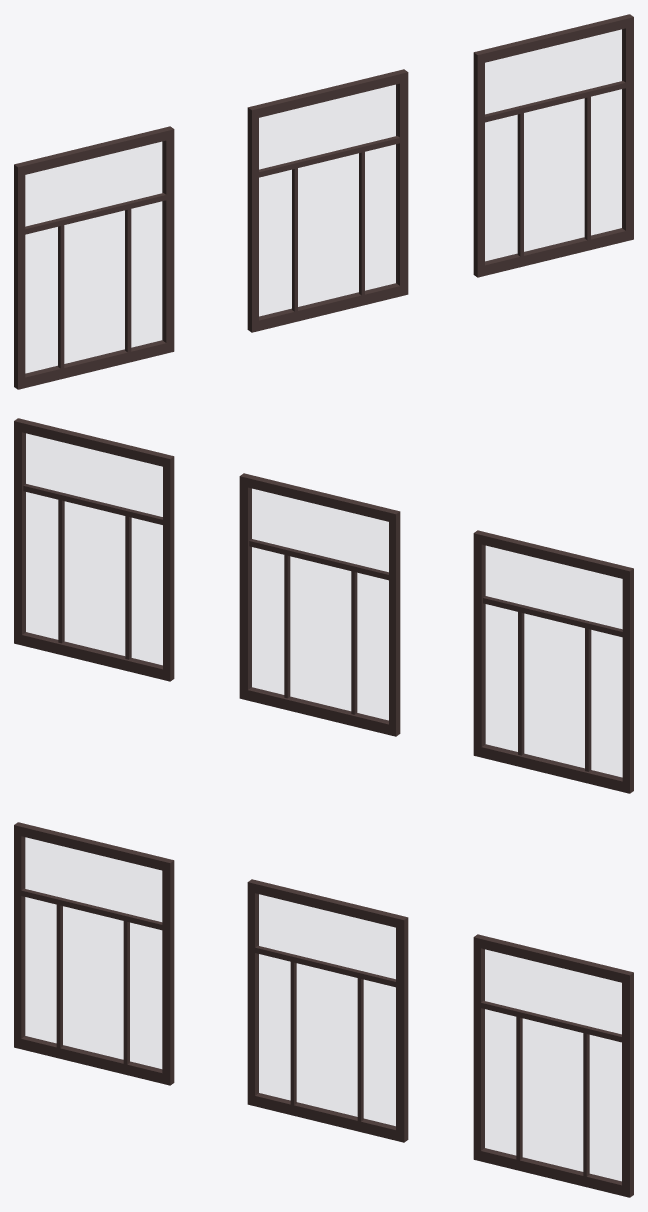
The model's file is windows_wall.fbx.
3 renders of one model, top to bottom at view 1: azimuth 30°, elevation 25°; view 2: azimuth 150°, elevation 25°; view 3: azimuth 330°, elevation 25°, orthographic.
Visible parts, largest first — view 1: windows; view 2: windows; view 3: windows.
Part boxes in pixels (bbox=[...]): windows: bbox=[14, 14, 633, 389]; windows: bbox=[14, 418, 633, 793]; windows: bbox=[14, 822, 633, 1197].
Bounding box in the file's own units: 17.17 × 5.93 × 0.1949.
